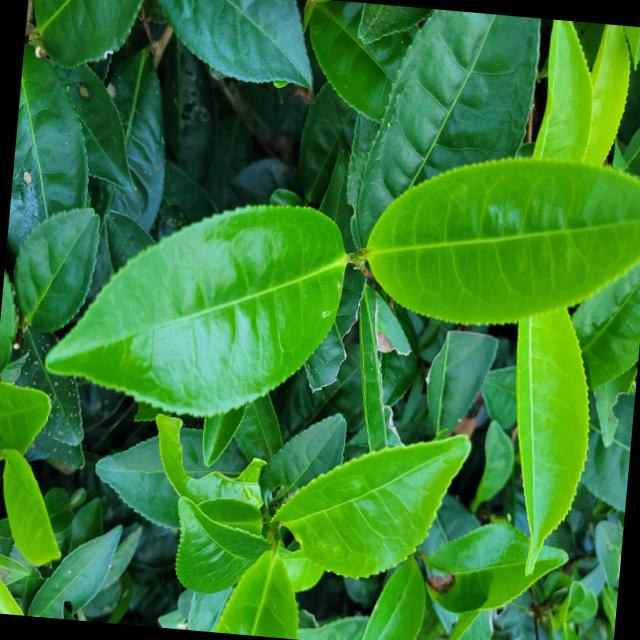Catagory A(1-2 days): (0, 442, 70, 578)
